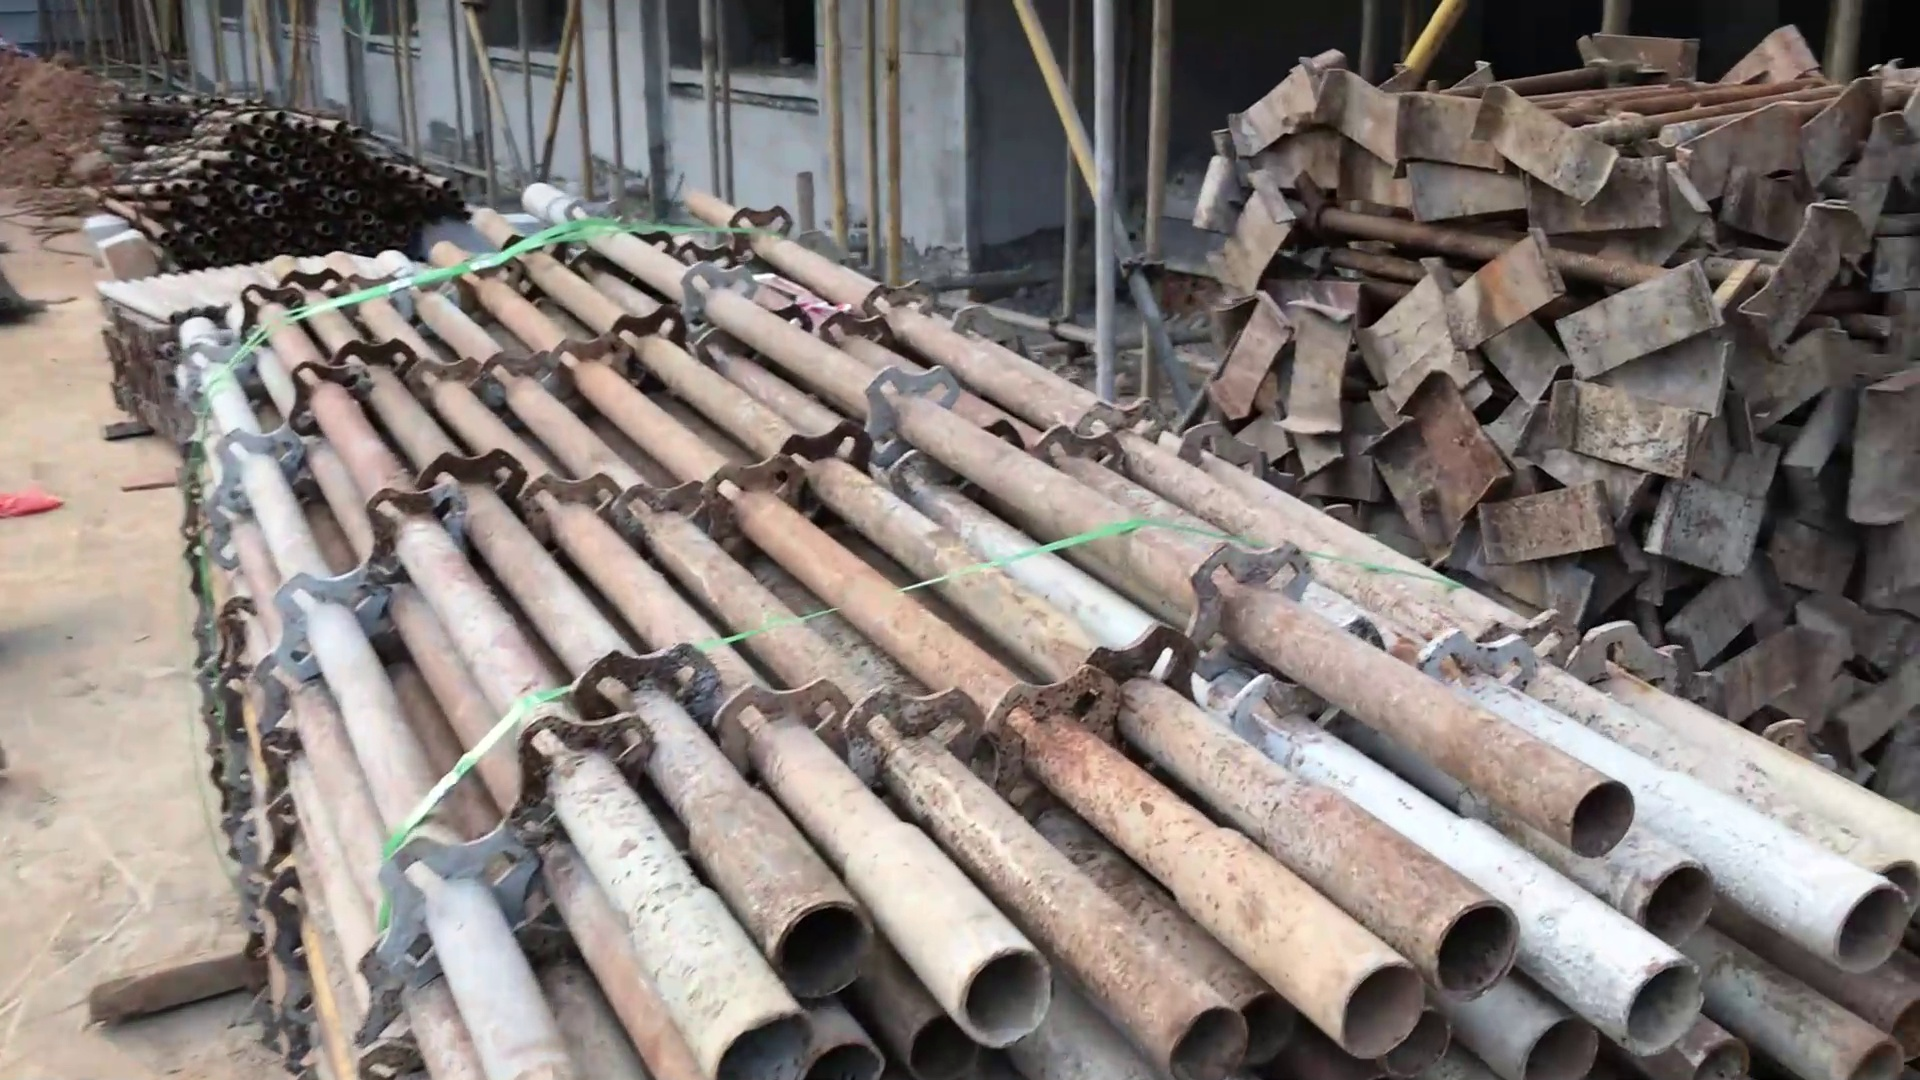scaffold: (157, 156, 1920, 1079), (109, 76, 472, 278)
